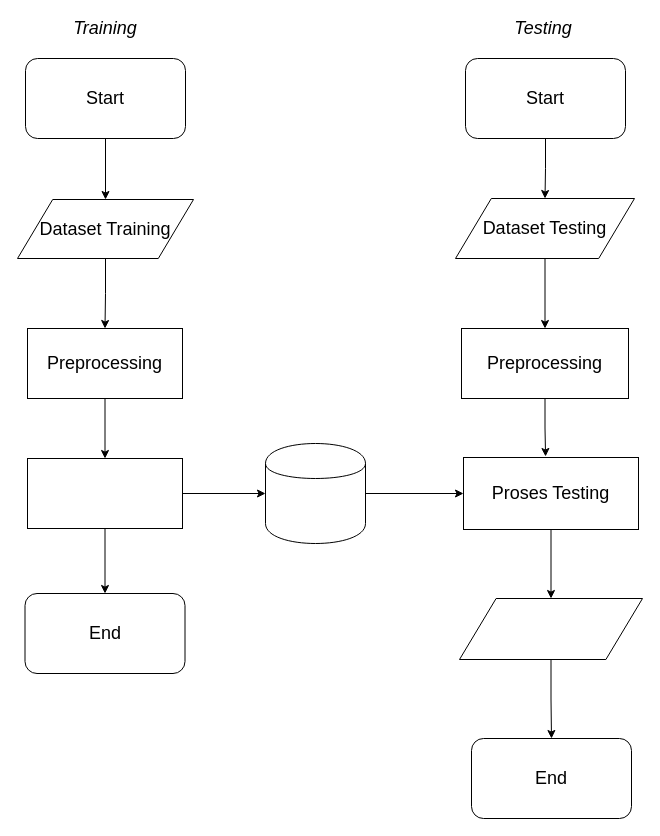
The diagram is 660 pixels wide and 836 high, and some of its shapes have lost their labels. The shapes that lost their labels are listed below. From the top down, each one's centre as x and y in pixels, then its label:
point (104, 493): Proses Training
point (315, 493): Vektor Fitur
point (550, 629): Car Detection
